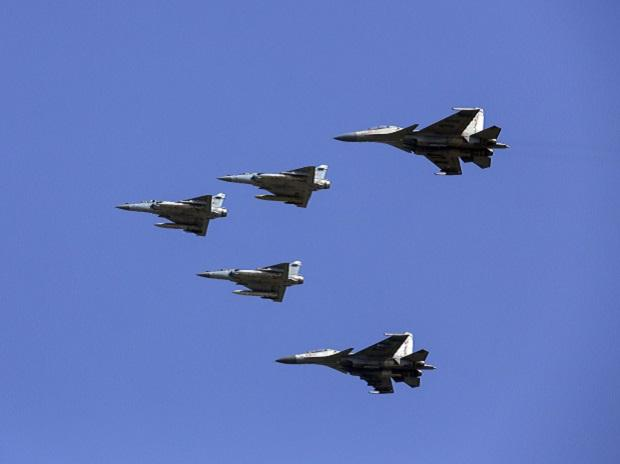plane: (333, 104, 512, 179), (273, 329, 435, 399), (115, 192, 231, 238), (216, 164, 333, 209), (195, 260, 310, 305)
